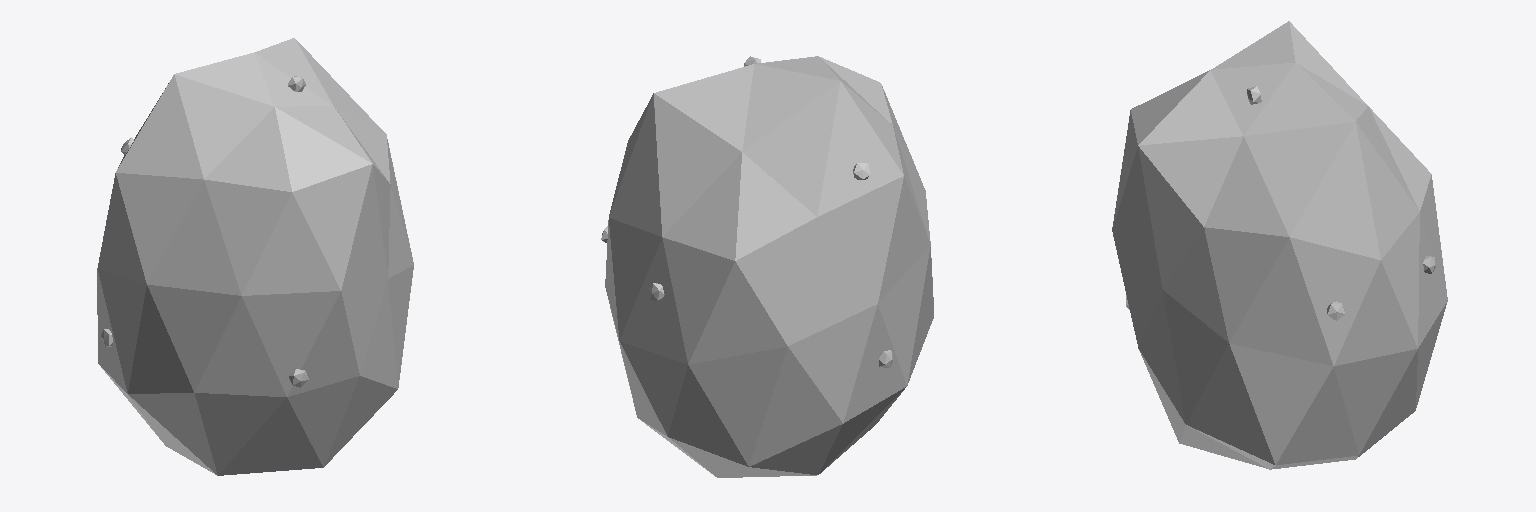
The model's file is bush2.obj.
The picture shows the model from 3 angles: view 1: azimuth 30°, elevation 25°; view 2: azimuth 150°, elevation 25°; view 3: azimuth 270°, elevation 25°; orthographic projection.
Parts seen in each view (by area): view 1: Bush_8_Cube.008; view 2: Bush_8_Cube.008; view 3: Bush_8_Cube.008.
Boxes of the visible parts, x1,y1,x2,y2 form: Bush_8_Cube.008: [97, 38, 413, 475]; Bush_8_Cube.008: [601, 56, 933, 477]; Bush_8_Cube.008: [1112, 21, 1447, 469].
Bounding box in the file's own units: 0.8398 × 1.15 × 0.8831.